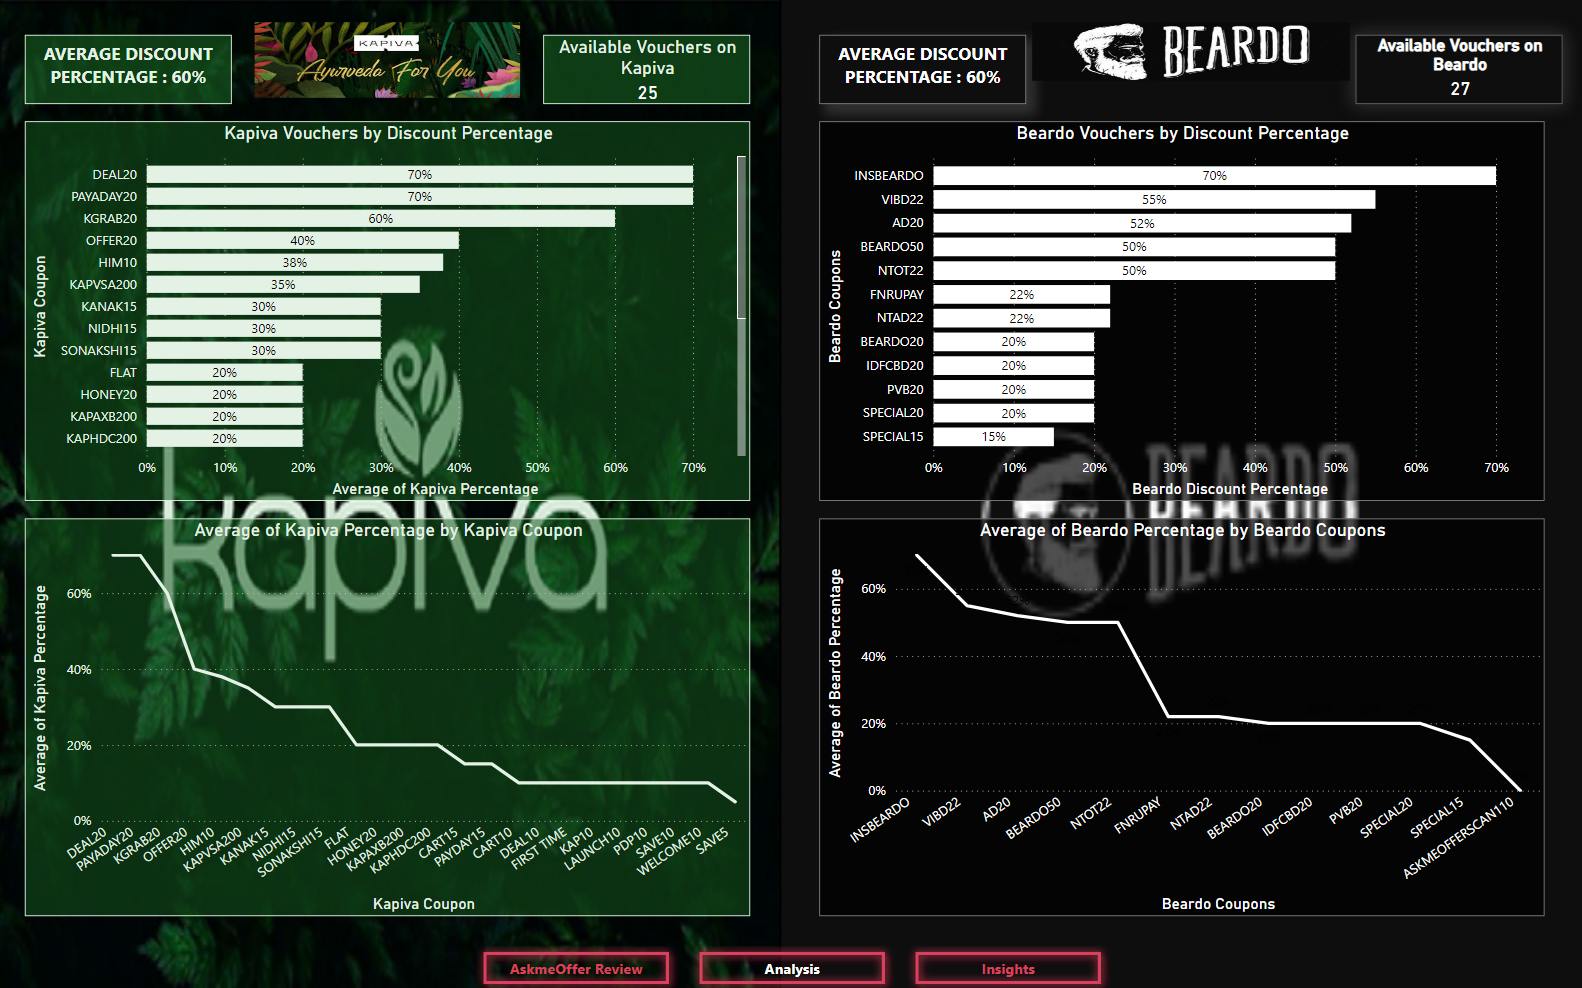

What the dashboard file says about the page in this screenshot:
{"tool":"powerbi","page":{"name":"Analysis","canvas":[1480,920],"ordinal":1},"visuals":[{"type":"image","box":[0,-8,736,928],"z":0},{"type":"image","box":[728,-8,752,928],"z":1000},{"type":"card","title":"Available Vouchers on Beardo","fields":{"Values":["Sum(Sheet1 (2).Available Vouchers of Beardo)"]},"box":[1264,32,192,64],"z":2000},{"type":"clusteredBarChart","title":"Beardo Vouchers by Discount Percentage ","fields":{"Category":["Sheet1 (2).Beardo Coupons"],"Y":["Avg(Sheet1 (2). Beardo Percentage)"]},"box":[768,112,672,352],"z":3000},{"type":"textbox","box":[768,32,192,64],"z":4000},{"type":"lineChart","fields":{"Category":["Sheet1 (2).Beardo Coupons"],"Y":["Avg(Sheet1 (2). Beardo Percentage)"]},"box":[768,480,672,368],"z":5000},{"type":"clusteredBarChart","title":"Kapiva Vouchers by Discount Percentage ","fields":{"Category":["Sheet1 (2).Kapiva Coupon "],"Y":["Avg(Sheet1 (2).Kapiva Percentage)"]},"box":[32,112,672,352],"z":6000},{"type":"lineChart","fields":{"Category":["Sheet1 (2).Kapiva Coupon "],"Y":["Avg(Sheet1 (2).Kapiva Percentage)"]},"box":[32,480,672,368],"z":7000},{"type":"textbox","box":[32,32,192,64],"z":8000},{"type":"card","title":"Available Vouchers on Kapiva","fields":{"Values":["CountNonNull(Sheet1 (2).Kapiva Coupon )"]},"box":[512,32,192,64],"z":9000},{"type":"image","box":[240,16,256,80],"z":9001},{"type":"image","box":[960,16,304,64],"z":9003},{"type":"pageNavigator","box":[448,872,592,48],"z":9004}]}

Visuals, with their boxes in screenshot pixels (x1, y1, x2, y2), scaled from the page's 1480x920 canvas onto the 1582x988 screenshot:
image: (left=0, top=0, right=787, bottom=987)
image: (left=778, top=0, right=1581, bottom=987)
"Available Vouchers on Beardo" card: (left=1351, top=34, right=1556, bottom=103)
"Beardo Vouchers by Discount Percentage " clusteredBarChart: (left=821, top=120, right=1539, bottom=498)
textbox: (left=821, top=34, right=1026, bottom=103)
lineChart - Sheet1 (2).Beardo Coupons x Avg(Sheet1 (2). Beardo Percentage): (left=821, top=515, right=1539, bottom=911)
"Kapiva Vouchers by Discount Percentage " clusteredBarChart: (left=34, top=120, right=753, bottom=498)
lineChart - Sheet1 (2).Kapiva Coupon  x Avg(Sheet1 (2).Kapiva Percentage): (left=34, top=515, right=753, bottom=911)
textbox: (left=34, top=34, right=239, bottom=103)
"Available Vouchers on Kapiva" card: (left=547, top=34, right=753, bottom=103)
image: (left=257, top=17, right=530, bottom=103)
image: (left=1026, top=17, right=1351, bottom=86)
pageNavigator: (left=479, top=936, right=1112, bottom=987)
